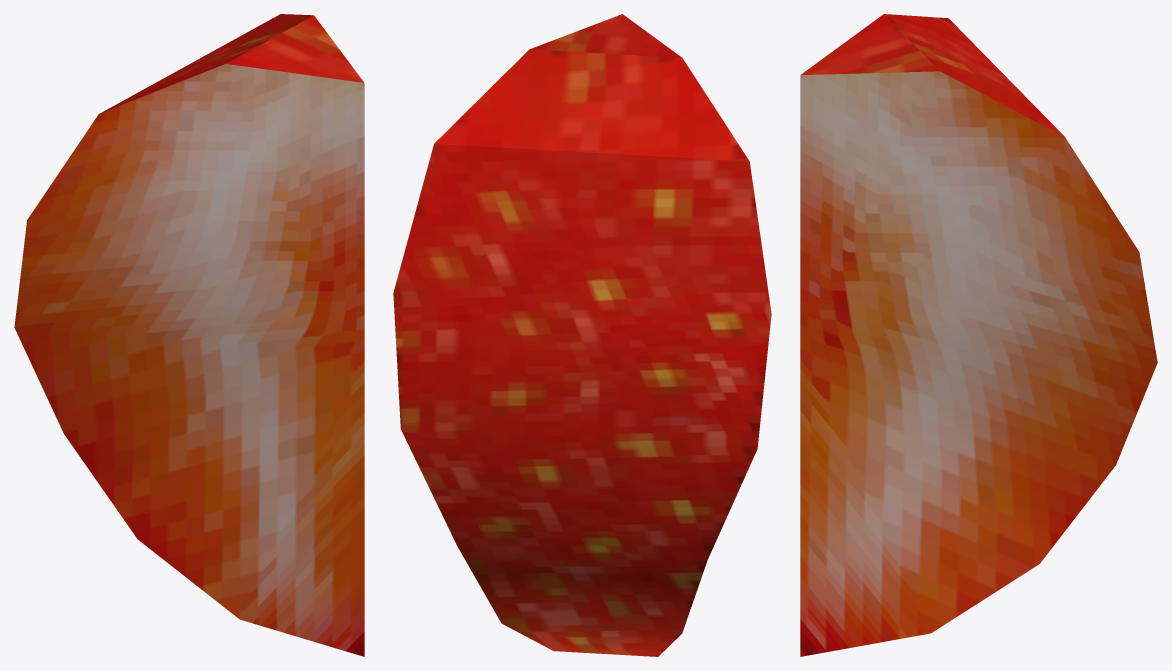
The model's file is strawberryPart.fbx.
The picture shows the model from 3 angles, left to right: view 1: azimuth 30°, elevation 25°; view 2: azimuth 150°, elevation 25°; view 3: azimuth 270°, elevation 25°; orthographic projection. The views are drawn at different scales.
Visible parts, largest first — view 1: Sphere; view 2: Sphere; view 3: Sphere.
Boxes of the visible parts, x1,y1,x2,y2 form: Sphere: (14, 14, 364, 656); Sphere: (393, 14, 771, 656); Sphere: (800, 14, 1157, 656).
Bounding box in the file's own units: 107 × 209 × 114.
Materials: 2 (2 with a texture image).
